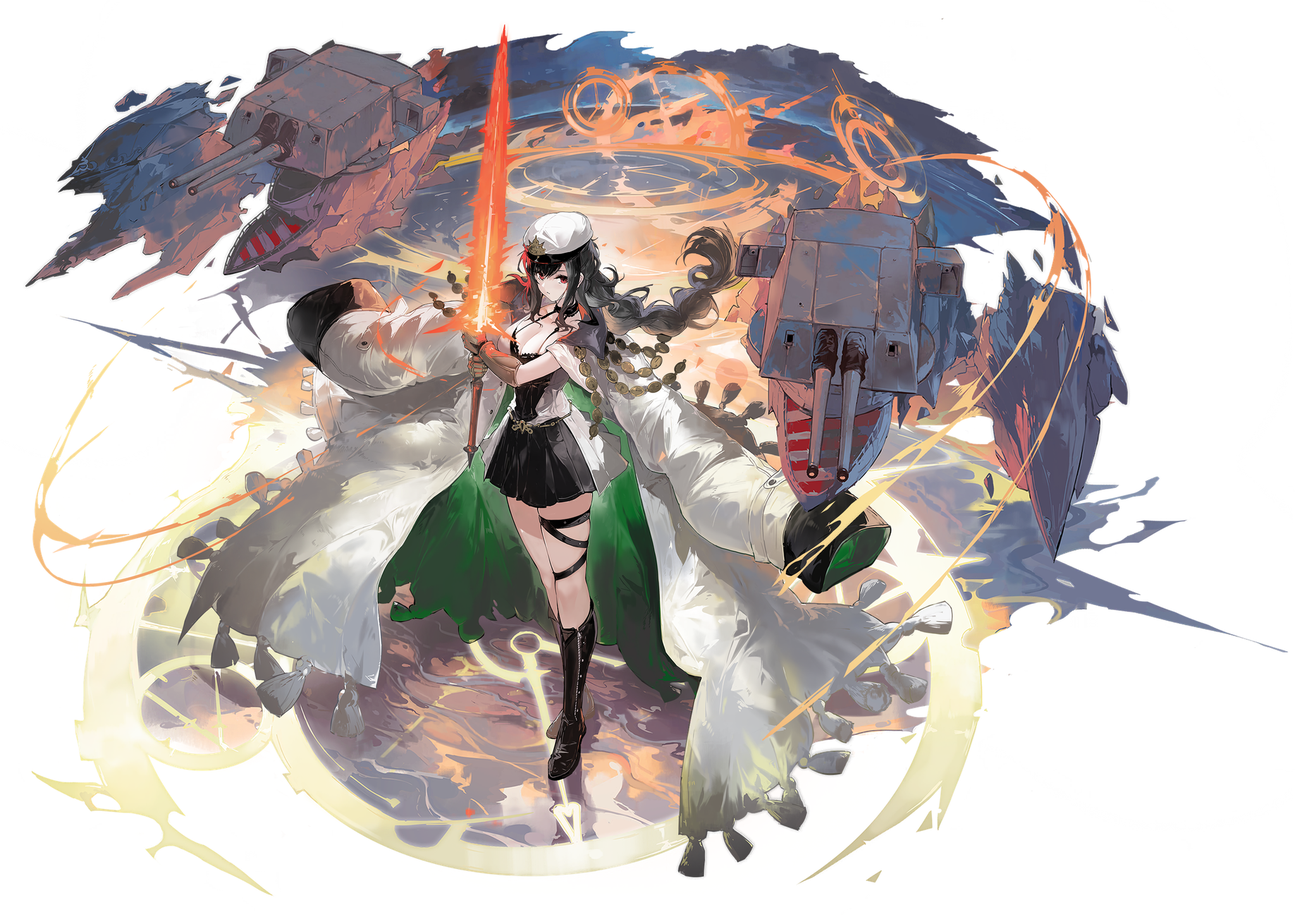person: (399, 188, 706, 860)
